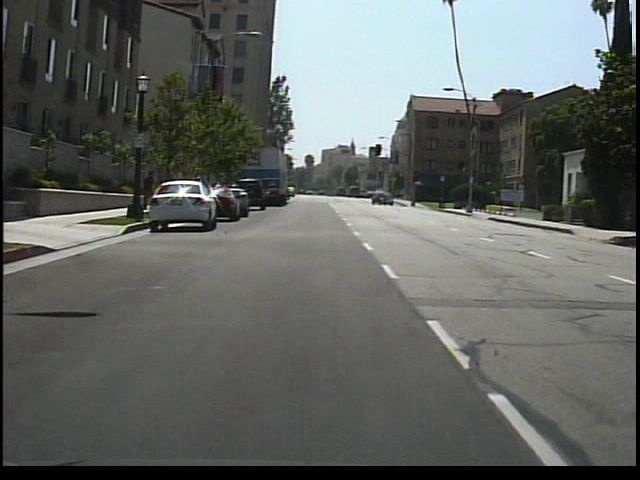person: (143, 167, 162, 215)
